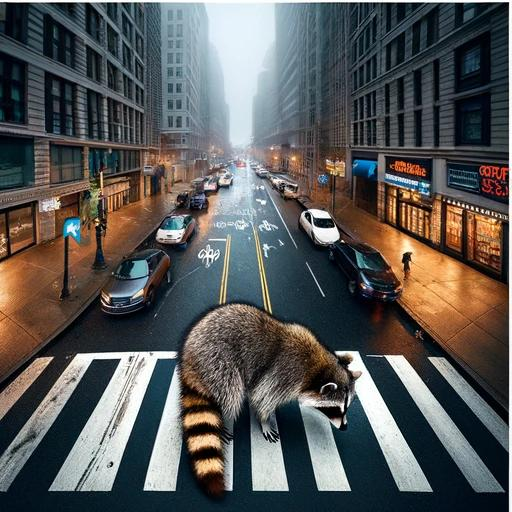raccoon: (167, 293, 369, 502)
